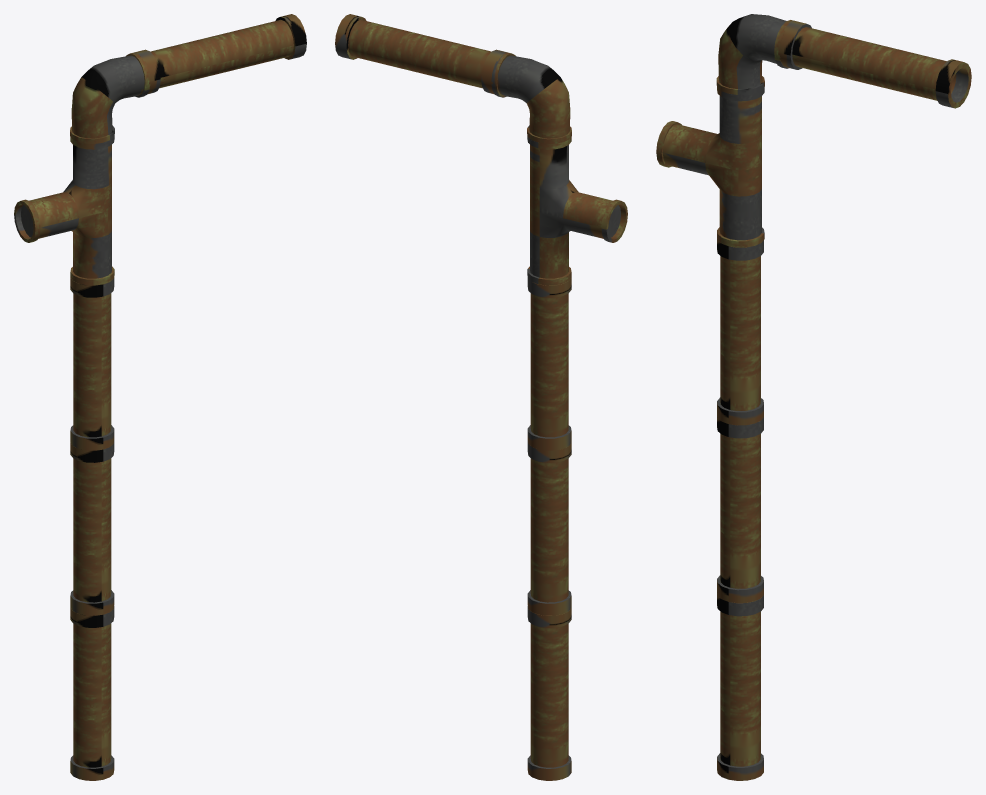
File: Pipe-Weapon.fbx
The picture shows the model from 3 angles, left to right: view 1: azimuth 30°, elevation 25°; view 2: azimuth 150°, elevation 25°; view 3: azimuth 330°, elevation 25°; orthographic projection. The views are drawn at different scales.
Visible parts, largest first — view 1: PipeWeapon; view 2: PipeWeapon; view 3: PipeWeapon.
Boxes of the visible parts, x1,y1,x2,y2 form: PipeWeapon: (14,14,306,780); PipeWeapon: (335,14,627,780); PipeWeapon: (656,14,971,780).
Bounding box in the file's own units: 1.46 × 3.64 × 0.206.
